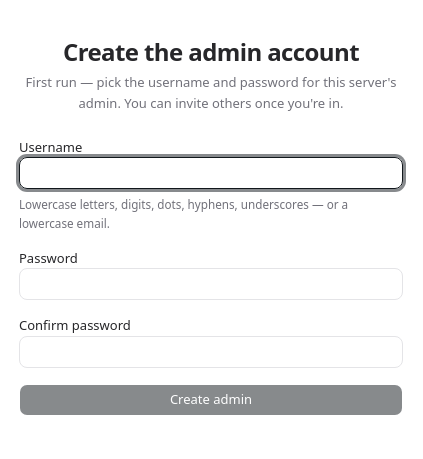
it: SetupPage › blocks submit and shows an error when the passwords don't match
In the field labelled "Username": (211, 173) [19,157,403,189], type "root"
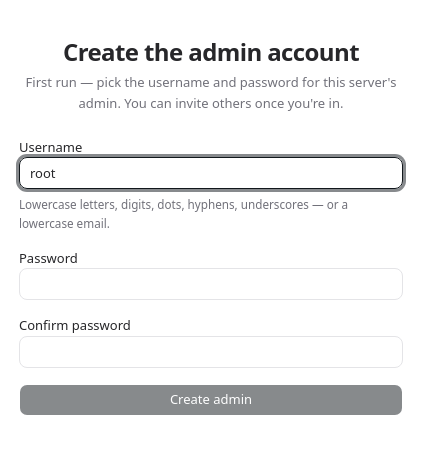
In the password field labelled "Password": (211, 284) [19,268,403,300], type "longenough"
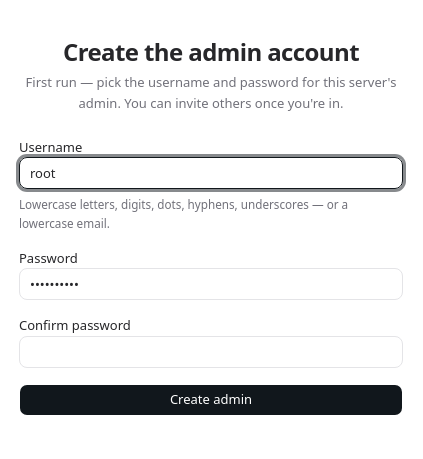
In the password field labelled "Confirm password": (211, 352) [19,336,403,368], type "different1"
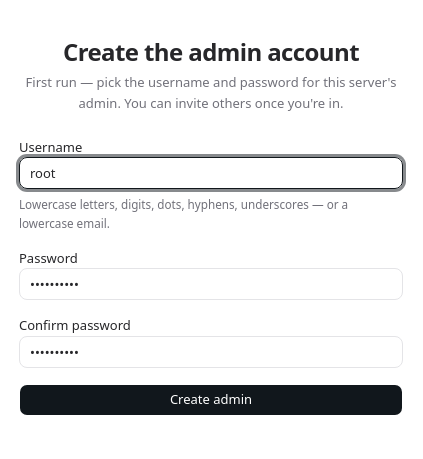
Click the button "Create admin": (211, 400) [19,384,403,416]
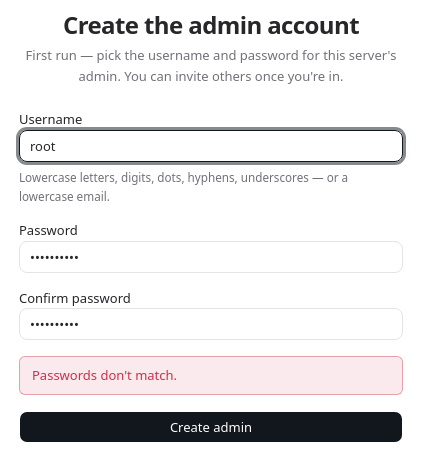
Now the message reads "Passwords don't match.", box [32,366,177,384]
